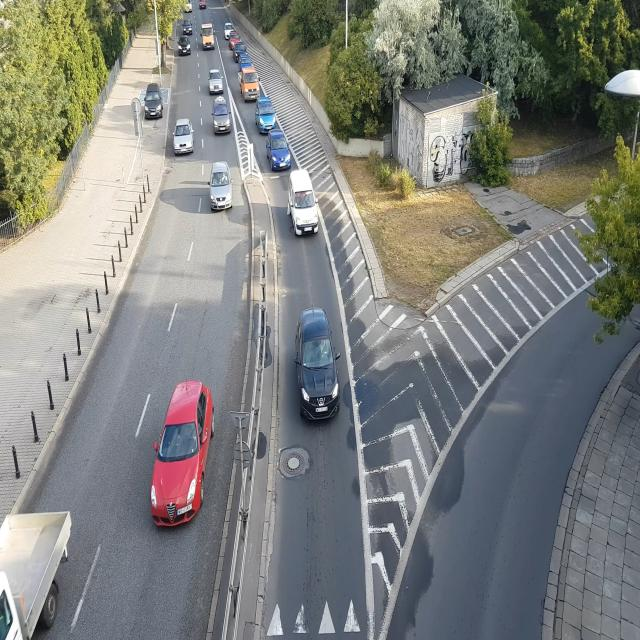car: (146, 358, 217, 522), (1, 512, 72, 636), (288, 306, 345, 424), (289, 170, 320, 234), (210, 162, 233, 214), (267, 131, 294, 172), (255, 96, 276, 135), (173, 118, 195, 155), (143, 86, 165, 120), (214, 100, 234, 136), (238, 71, 260, 102), (208, 72, 226, 96), (176, 34, 192, 59), (202, 34, 214, 51), (224, 18, 234, 38), (240, 53, 252, 68), (183, 16, 193, 34), (230, 29, 241, 43), (236, 41, 247, 54), (184, 1, 193, 14), (197, 0, 207, 10)
